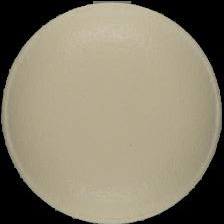54868-5649: (0, 0, 224, 224)
